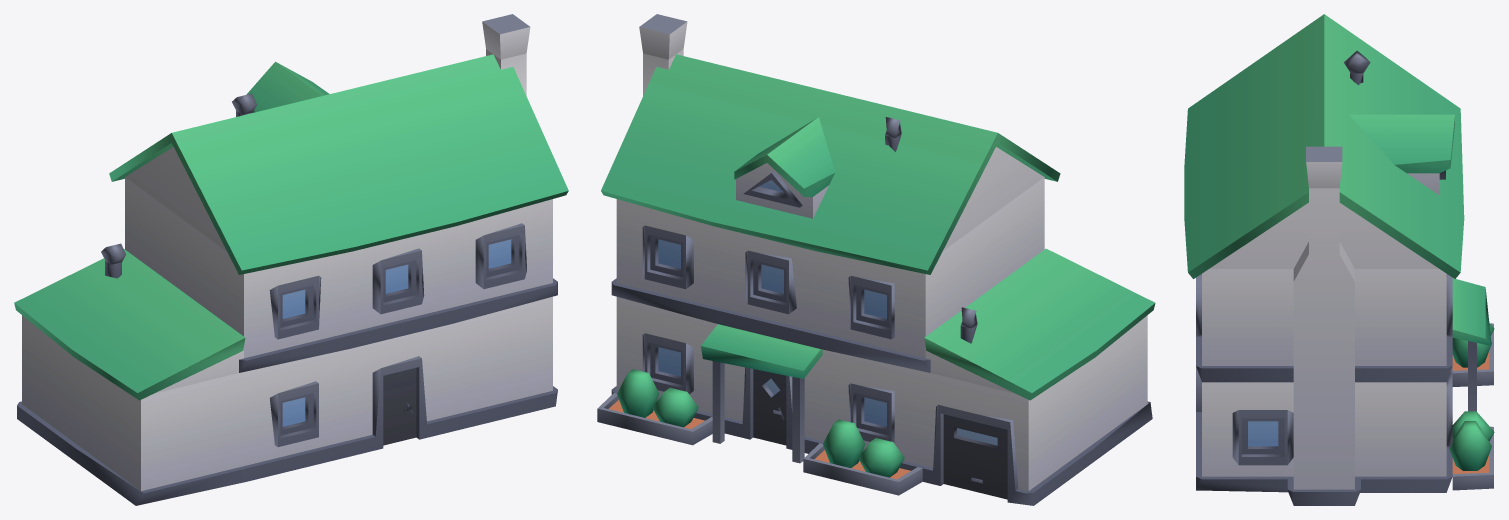
File: 057_city-kit-suburban_building-type-d_card.glb
3 renders of one model, left to right at view 1: azimuth 30°, elevation 25°; view 2: azimuth 150°, elevation 25°; view 3: azimuth 270°, elevation 25°, orthographic. The views are drawn at different scales.
Visible parts, largest first — view 1: building-type-d; view 2: building-type-d; view 3: building-type-d.
Part boxes in pixels (<box>): building-type-d: <box>14,14,568,505</box>; building-type-d: <box>597,14,1155,505</box>; building-type-d: <box>1184,14,1494,505</box>.
Bounding box in the file's own units: 1.76 × 1.24 × 1.02.
1 material, 1 textured.
